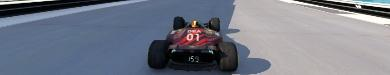Car: (146, 15, 238, 71)
